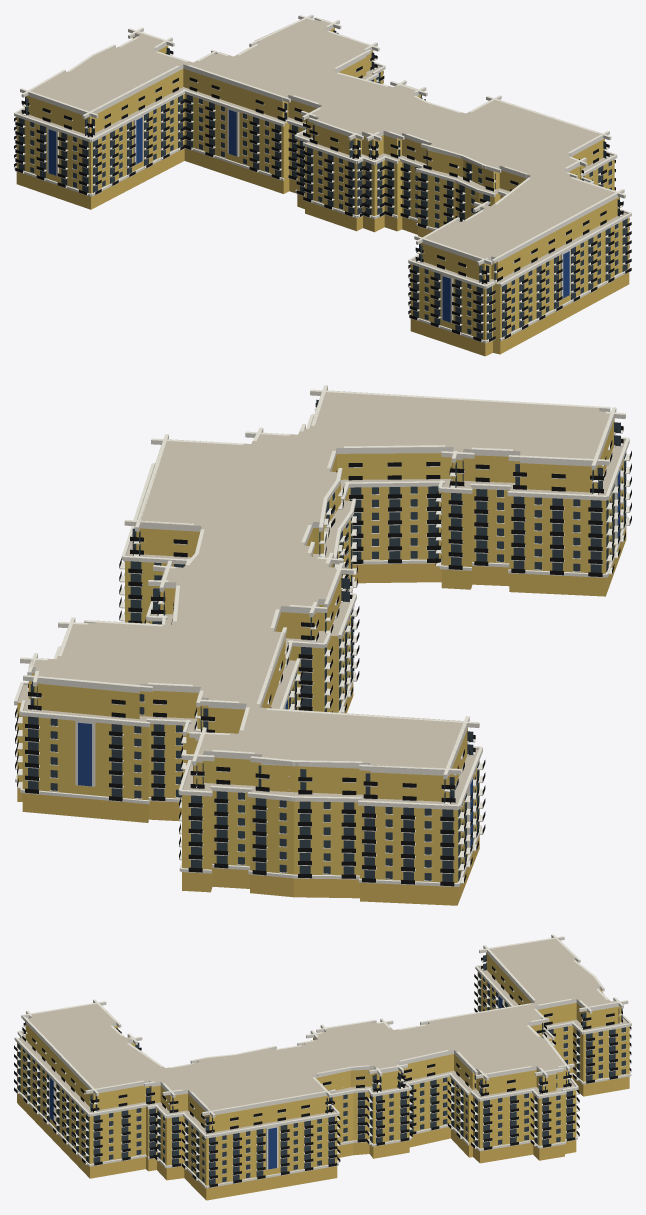
Rendered from ritz.glb.
3 renders of one model, top to bottom at view 1: azimuth 30°, elevation 25°; view 2: azimuth 150°, elevation 25°; view 3: azimuth 270°, elevation 25°, orthographic. The views are drawn at different scales.
Visible parts, largest first — view 1: ritz_lod0; view 2: ritz_lod0; view 3: ritz_lod0.
Boxes of the visible parts, left/top/right/bottom form: ritz_lod0: left=14, top=14, right=631, bottom=356; ritz_lod0: left=14, top=385, right=631, bottom=905; ritz_lod0: left=14, top=934, right=631, bottom=1200.
Size of what is drawn, in the model's own units: 144 by 30.8 by 203.
